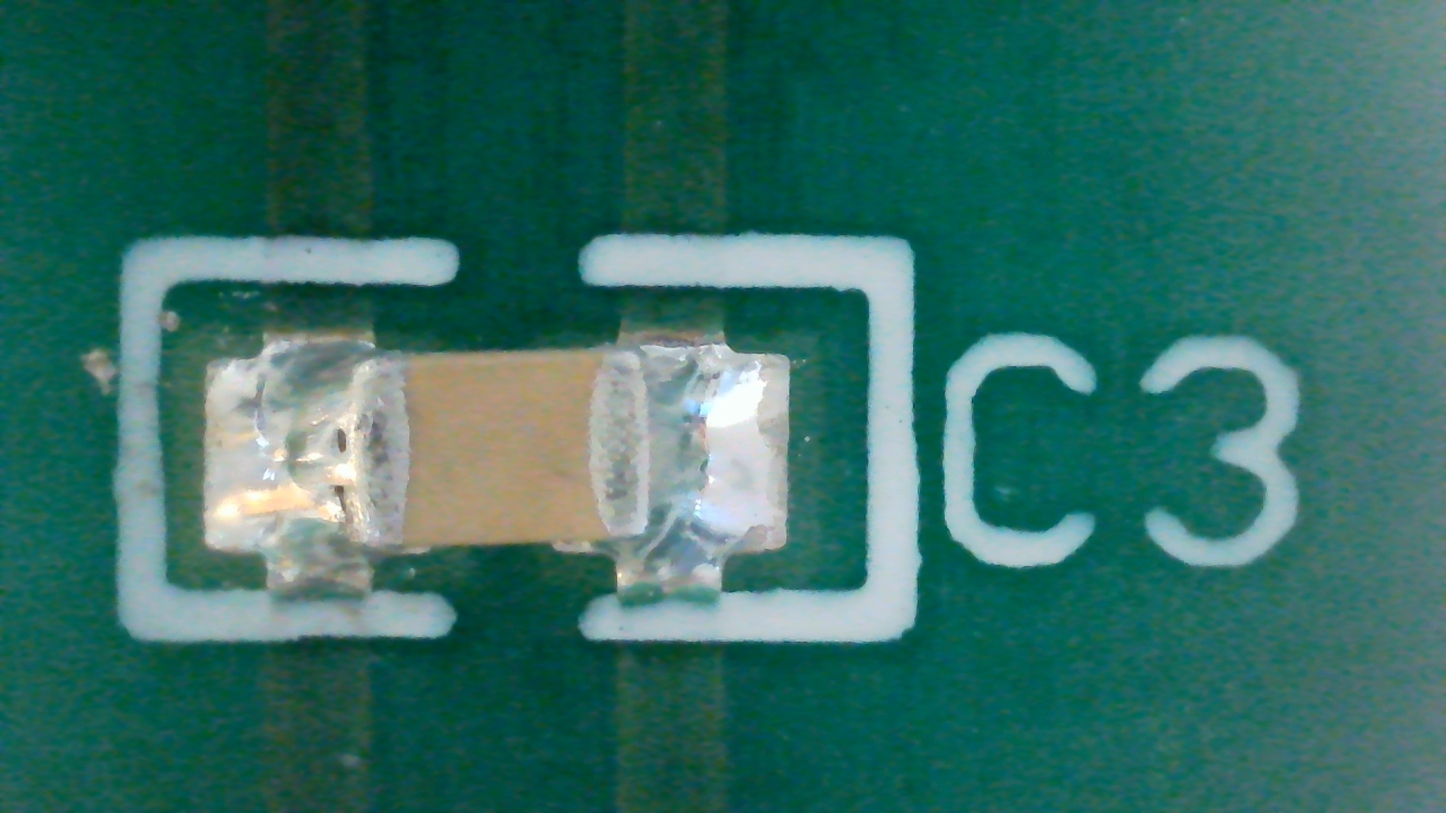OK: (204, 333, 789, 601)
